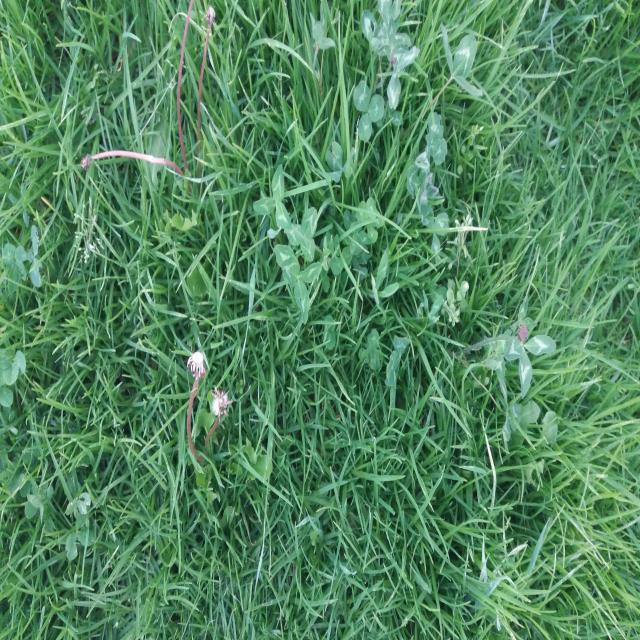Four Leaf Clover: (275, 244, 322, 325)
